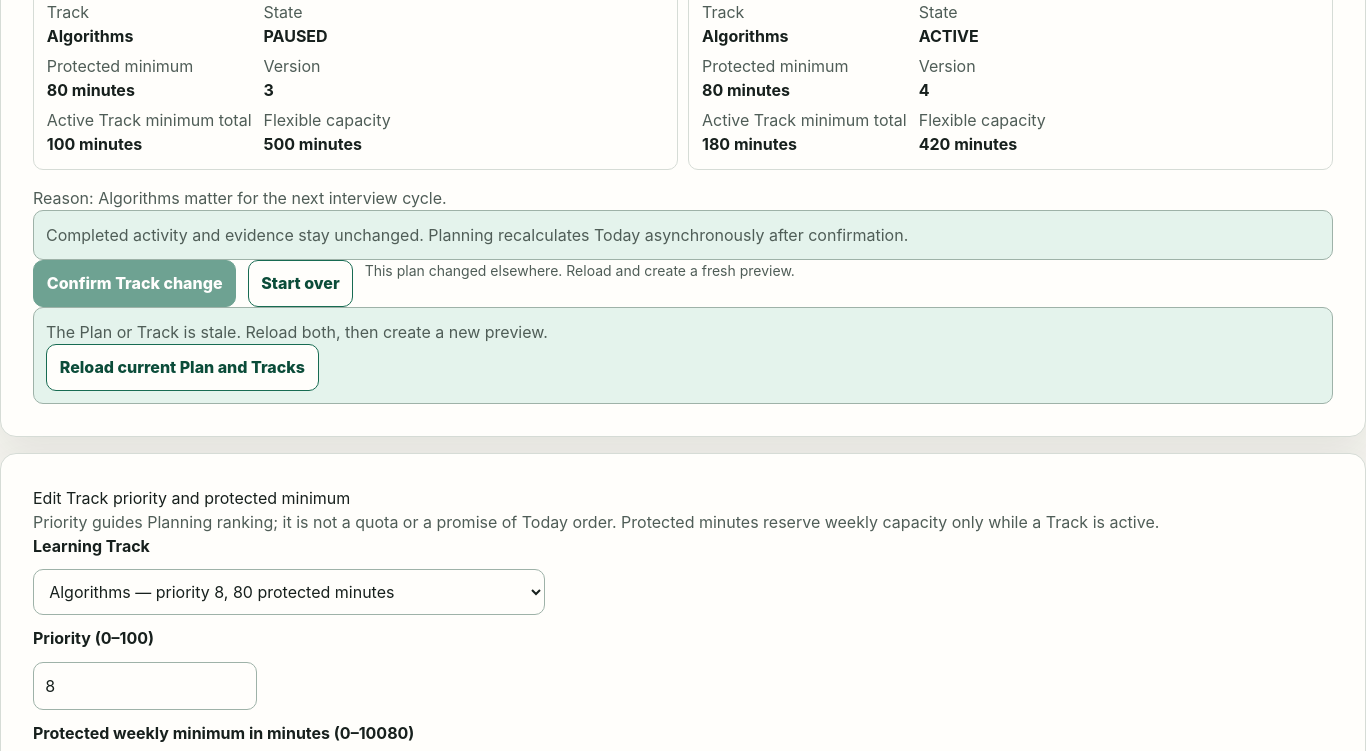
Scenario: PlanWorkspace › offers an explicit stale Track reload and removes its confirmation
The image size is (1366, 751).
(page scrolled)
Step 1. Click the button "Reload current Plan and Tracks" → (182, 367), box [46,344,319,391]
(page scrolled)
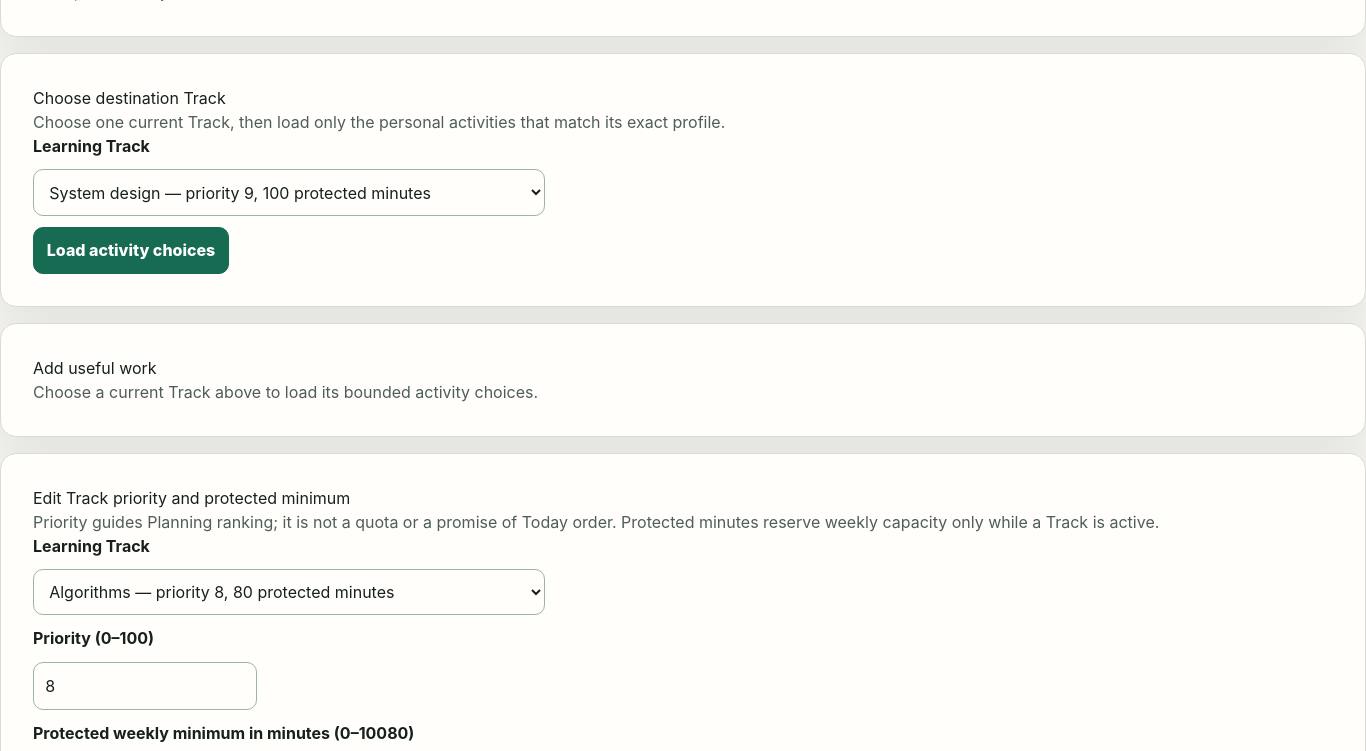
Expected: the button "Confirm Track change" is gone
